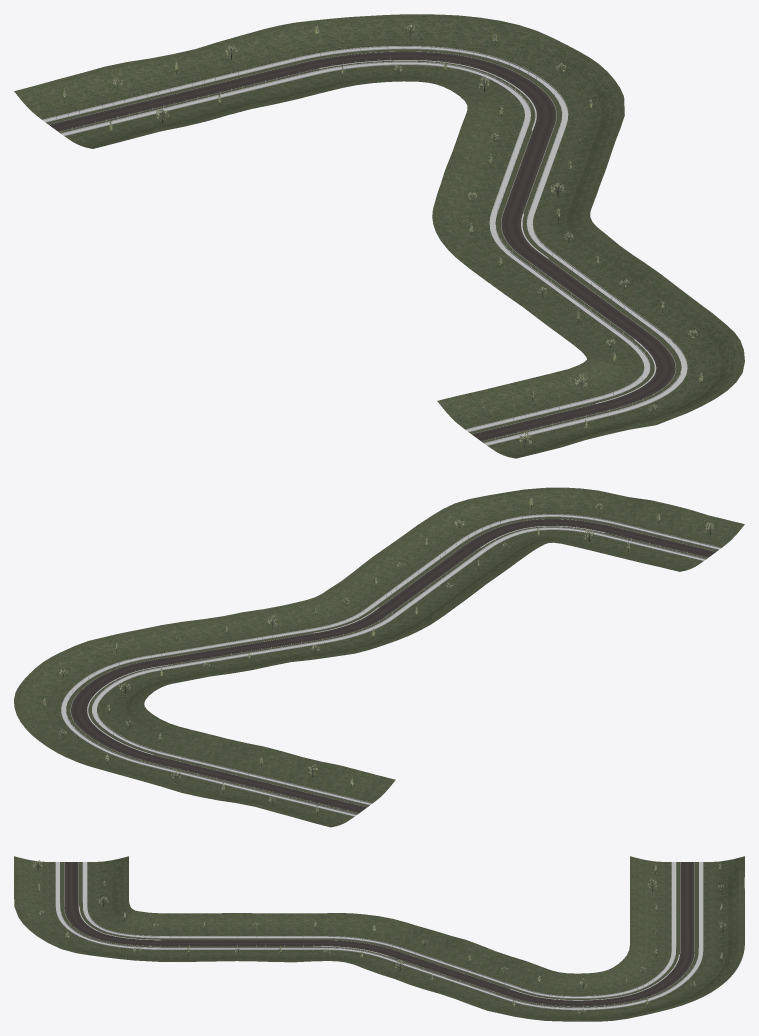
The picture shows the model from 3 angles, top to bottom: view 1: azimuth 30°, elevation 25°; view 2: azimuth 150°, elevation 25°; view 3: azimuth 270°, elevation 25°; orthographic projection. The views are drawn at different scales.
Parts seen in each view (by area): view 1: Grass, Road, Track, Trees; view 2: Grass, Road, Track, Trees; view 3: Grass, Road, Track, Trees.
Boxes of the visible parts, x1,y1,x2,y2 form: Grass: [14, 14, 744, 458]; Road: [49, 51, 675, 441]; Track: [43, 45, 687, 445]; Trees: [63, 24, 702, 447]; Grass: [14, 487, 744, 827]; Road: [71, 519, 715, 813]; Track: [61, 514, 720, 816]; Trees: [42, 497, 713, 815]; Grass: [14, 856, 744, 1021]; Road: [64, 862, 694, 1006]; Track: [55, 862, 703, 1010]; Trees: [32, 860, 725, 1015].
Bounding box in the file's own units: 47731 × 1900 × 89000.
